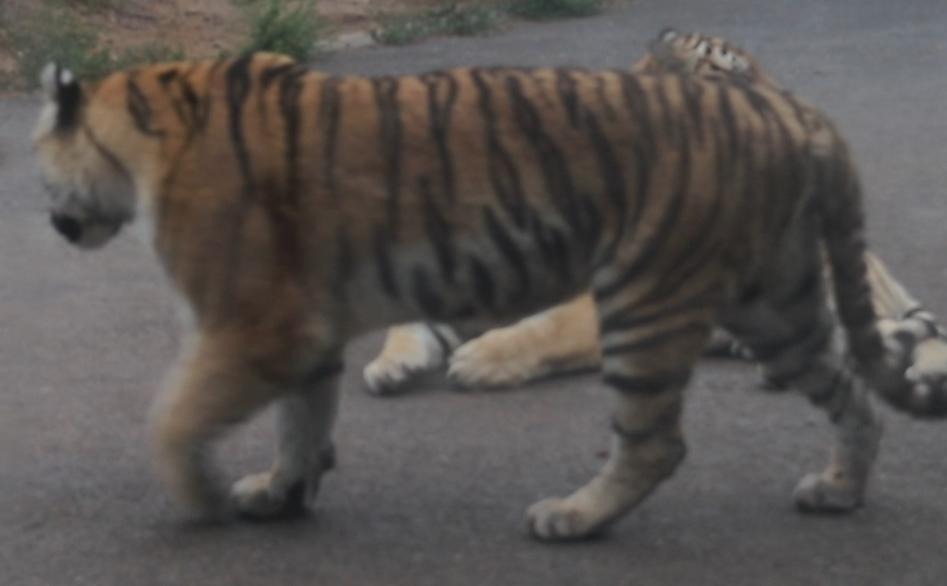tiger: (34, 32, 946, 541)
